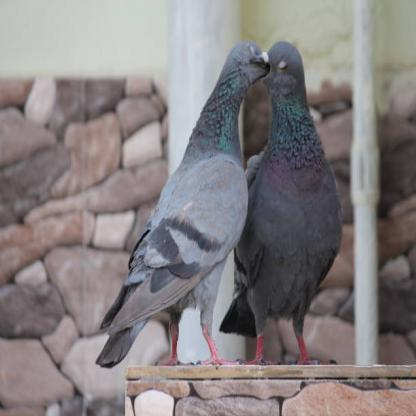Flying Rat: (99, 47, 265, 385), (243, 37, 348, 377)
